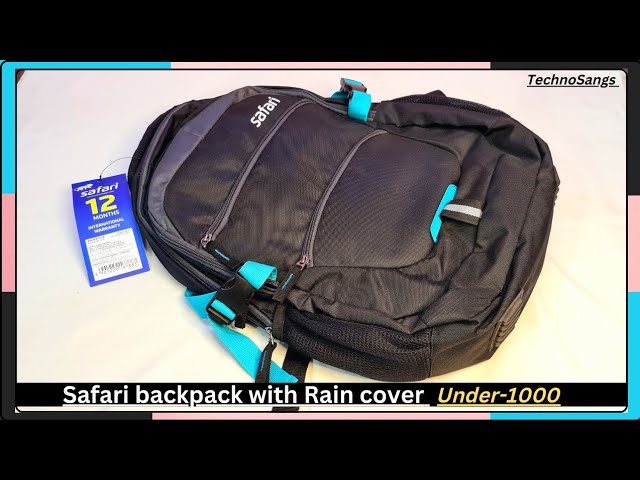backpack: (126, 77, 560, 384)
